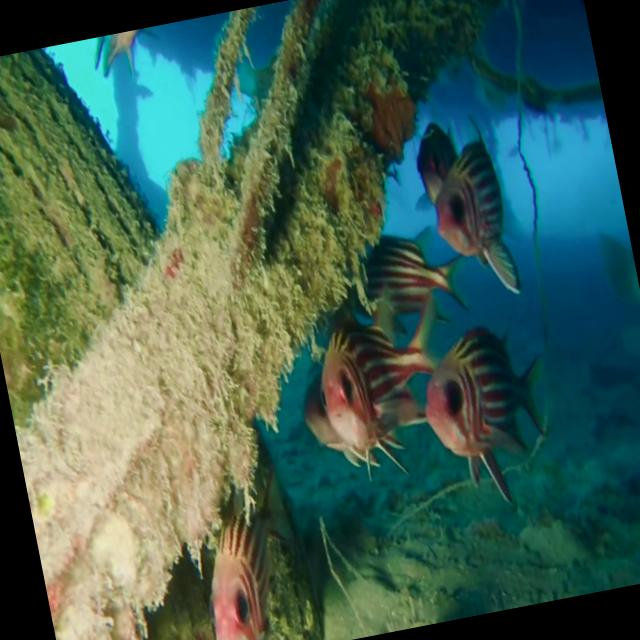Asker Baligi: (407, 302, 572, 519), (300, 296, 446, 494), (404, 107, 525, 310)
